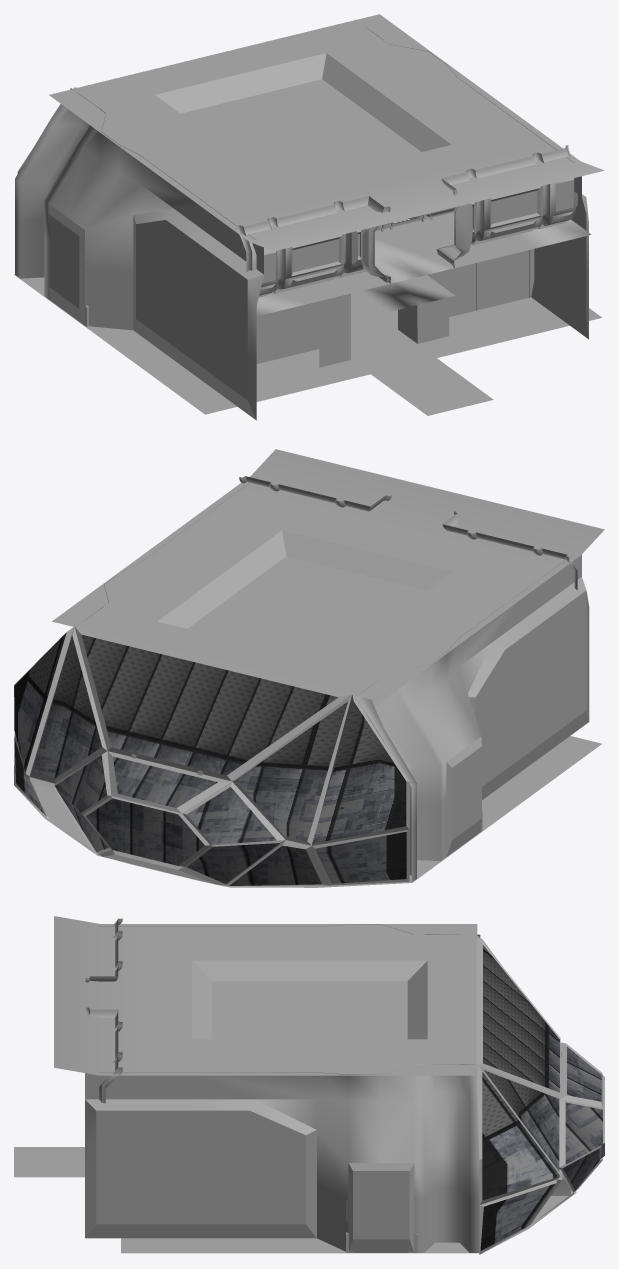
The model's file is Bridge.fbx.
3 renders of one model, top to bottom at view 1: azimuth 30°, elevation 25°; view 2: azimuth 150°, elevation 25°; view 3: azimuth 270°, elevation 25°, orthographic. The views are drawn at different scales.
Parts seen in each view (by area): view 1: BridgeFloor1, BridgeWall1, BridgeBalcony1, BridgeFloor, BridgeWall, WallNormal1, WallNormal, WallCorner184, BridgeWallSmall4, WallCorner, BridgeWallSmall, map_on_wall:MapSecond; view 2: BridgeWindow, BridgeFloor1, BridgeWall1, BridgeFloor; view 3: BridgeWall, BridgeFloor1, BridgeWindow, BridgeFloor.
Boxes of the visible parts, x1,y1,x2,y2 form: BridgeFloor1: (49, 14, 604, 251); BridgeWall1: (15, 88, 263, 420); BridgeBalcony1: (256, 207, 591, 367); BridgeFloor: (14, 274, 601, 415); BridgeWall: (355, 19, 588, 339); WallNormal1: (469, 153, 544, 245); WallNormal: (270, 201, 345, 293); WallCorner184: (336, 196, 390, 283); BridgeWallSmall4: (535, 145, 577, 229); WallCorner: (436, 169, 478, 267); BridgeWallSmall: (237, 218, 279, 297); map_on_wall:MapSecond: (274, 304, 307, 344); BridgeWindow: (14, 626, 409, 887); BridgeFloor1: (52, 449, 604, 701); BridgeWall1: (356, 553, 589, 882); BridgeFloor: (32, 695, 601, 887); BridgeWall: (85, 1064, 480, 1252); BridgeFloor1: (54, 916, 477, 1075); BridgeWindow: (476, 936, 604, 1254); BridgeFloor: (14, 1147, 572, 1253).
Bounding box in the file's own units: 24.37 × 11.31 × 32.91.
